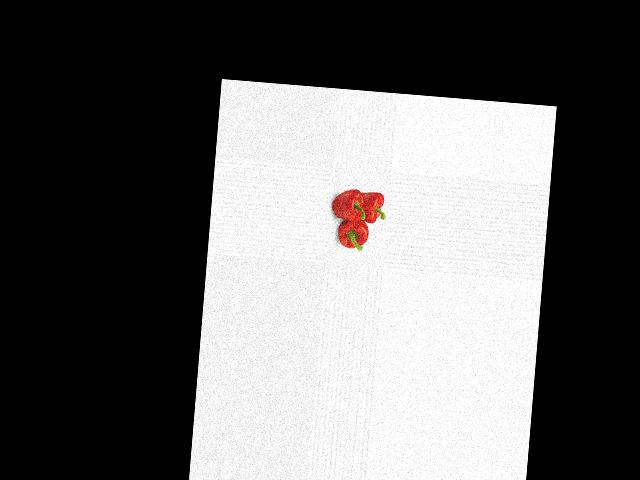bell_pepper: (333, 214, 373, 253)
